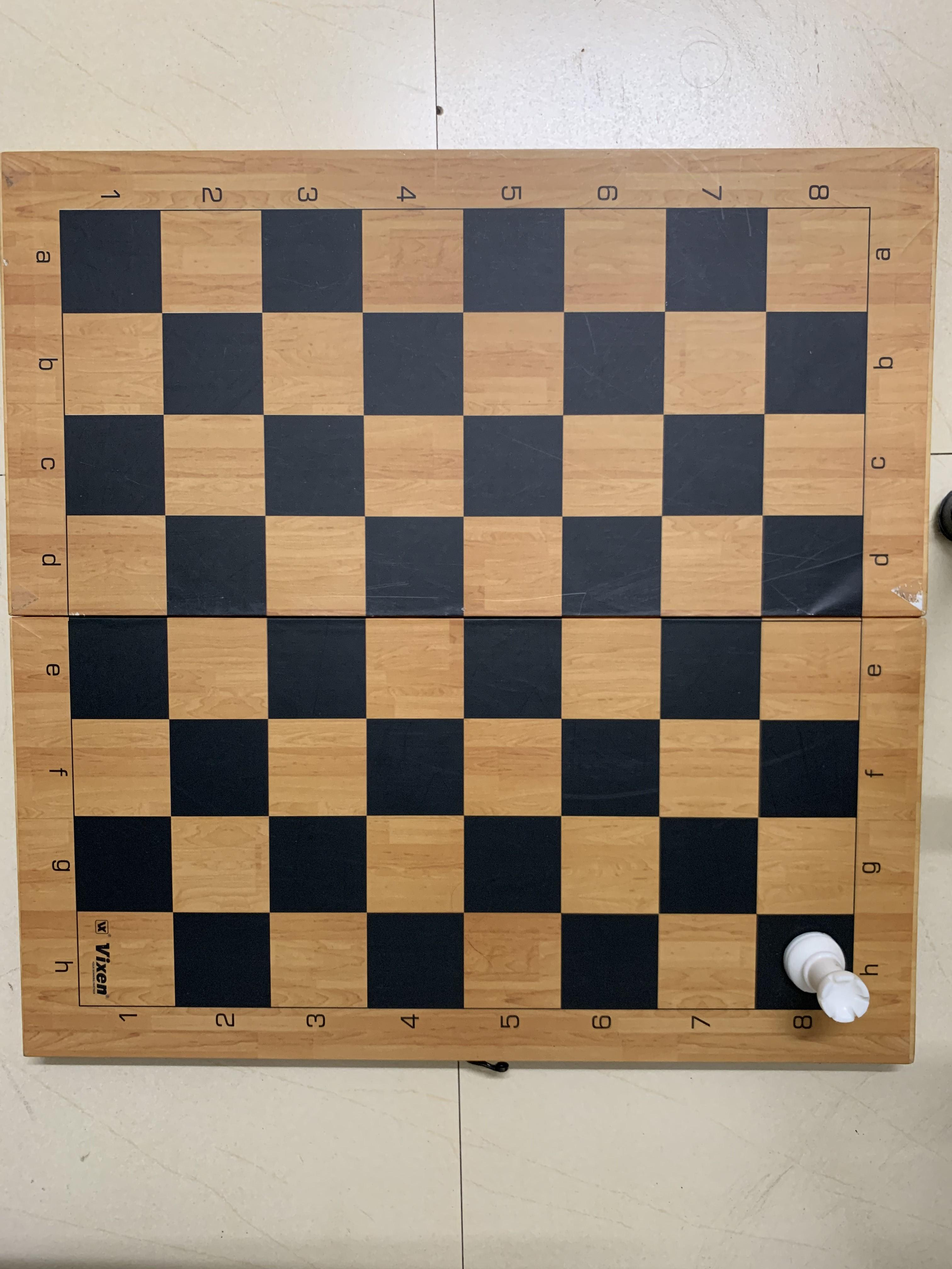white_rook: (756, 920, 881, 1023)
